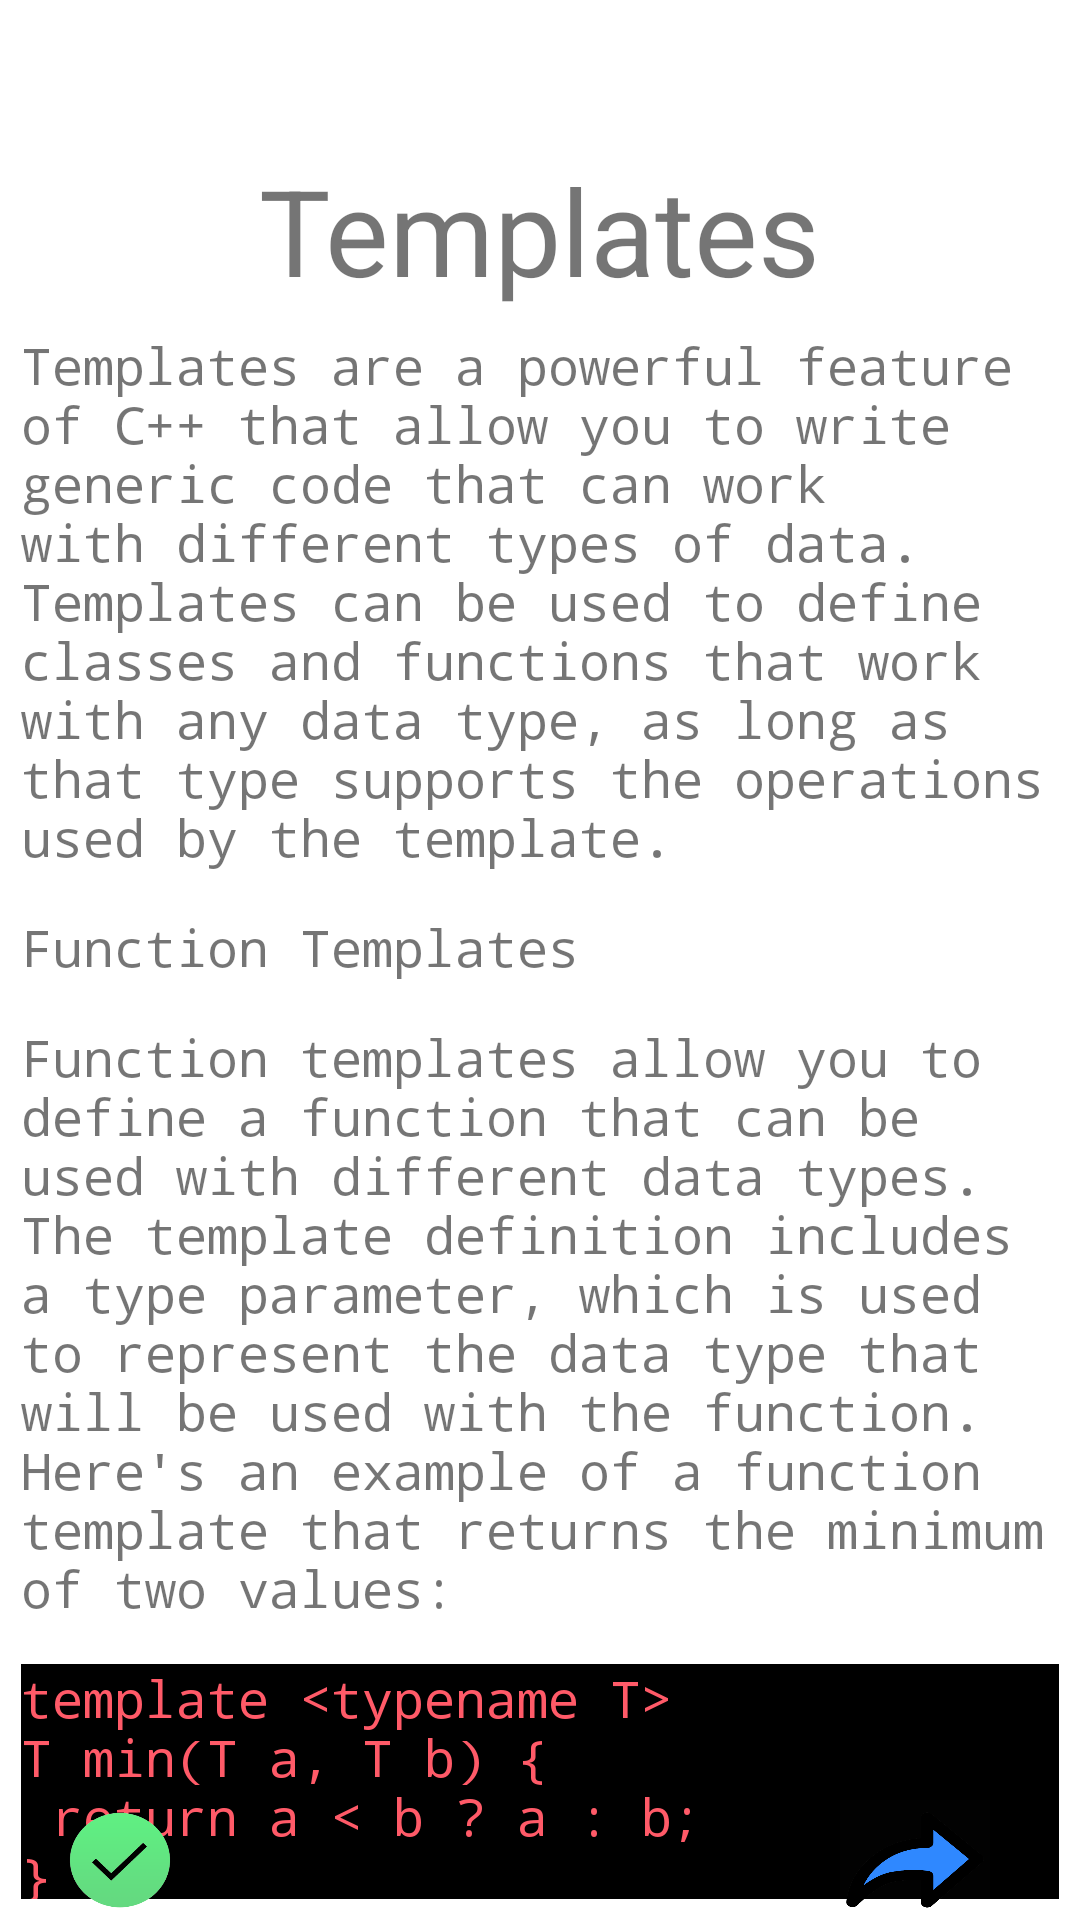

Icon bounding boxes for this 1080×1920 phone screenshot, format (x1, y1, x2, y2):
next: (840, 1830, 990, 1920)
